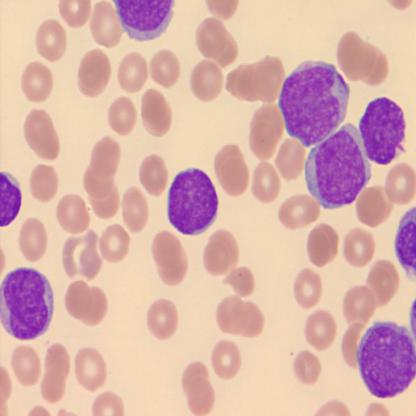Blast: (280, 57, 352, 150), (303, 120, 373, 210), (165, 163, 223, 239), (357, 95, 411, 170)
